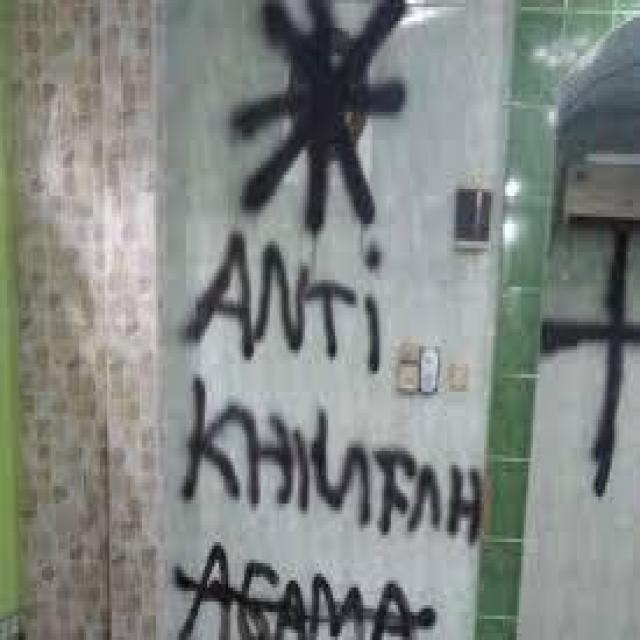nonspitting: (170, 0, 482, 640)
